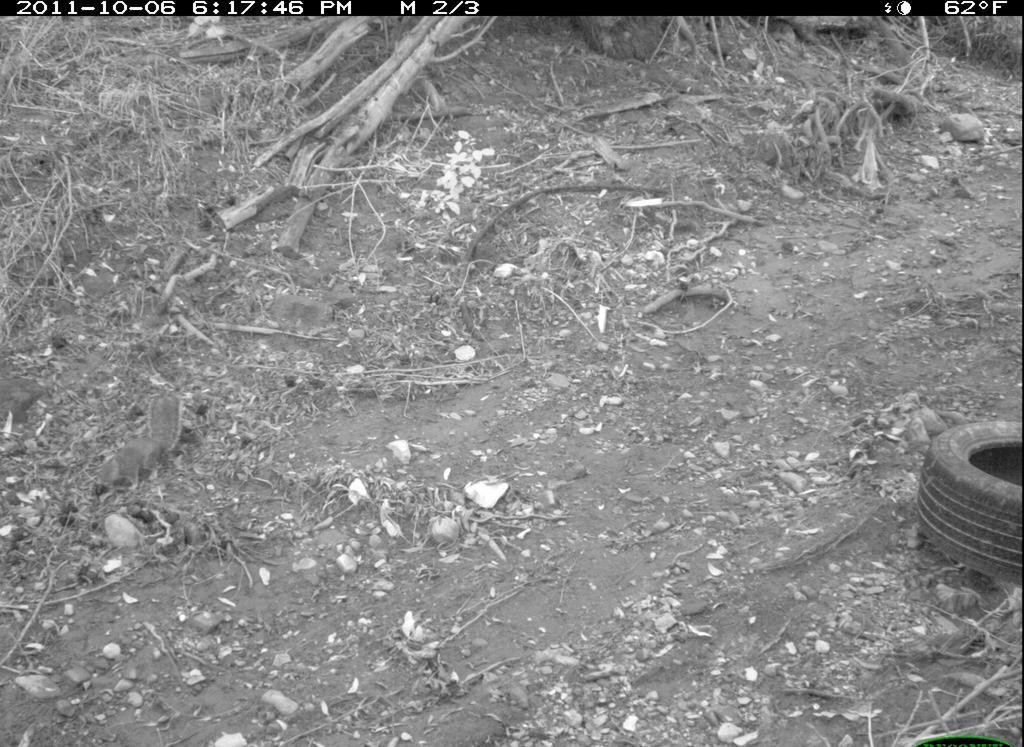squirrel: (86, 391, 194, 505)
